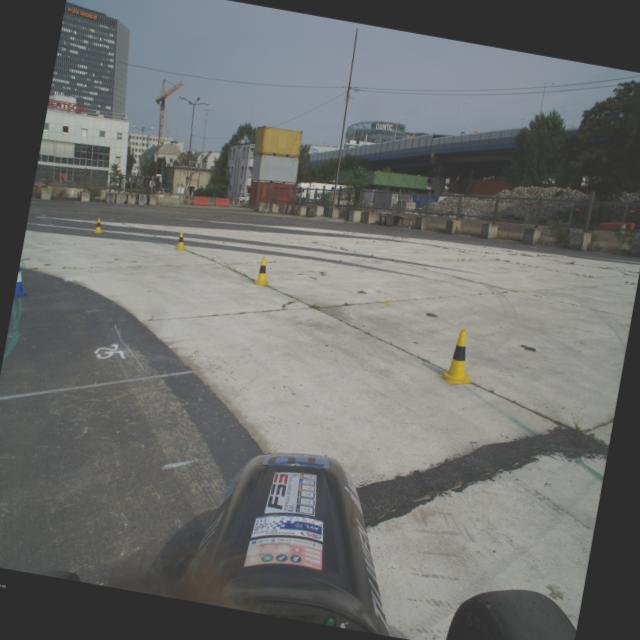blue_cone: (14, 264, 34, 300)
yellow_cone: (436, 326, 481, 386), (252, 255, 274, 288), (174, 230, 188, 250), (93, 217, 105, 234)
